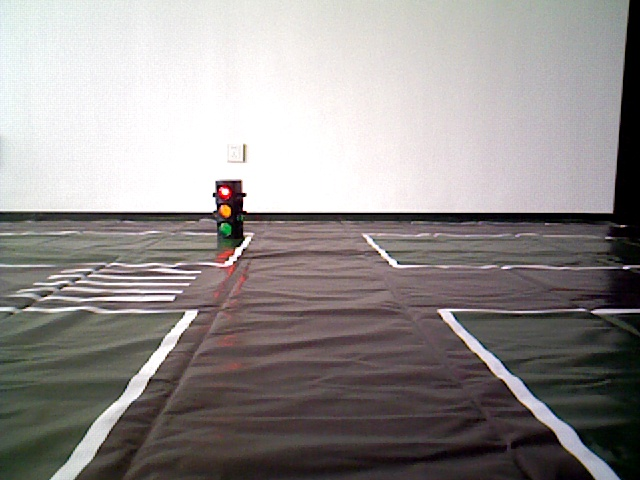red: (217, 181, 240, 242)
